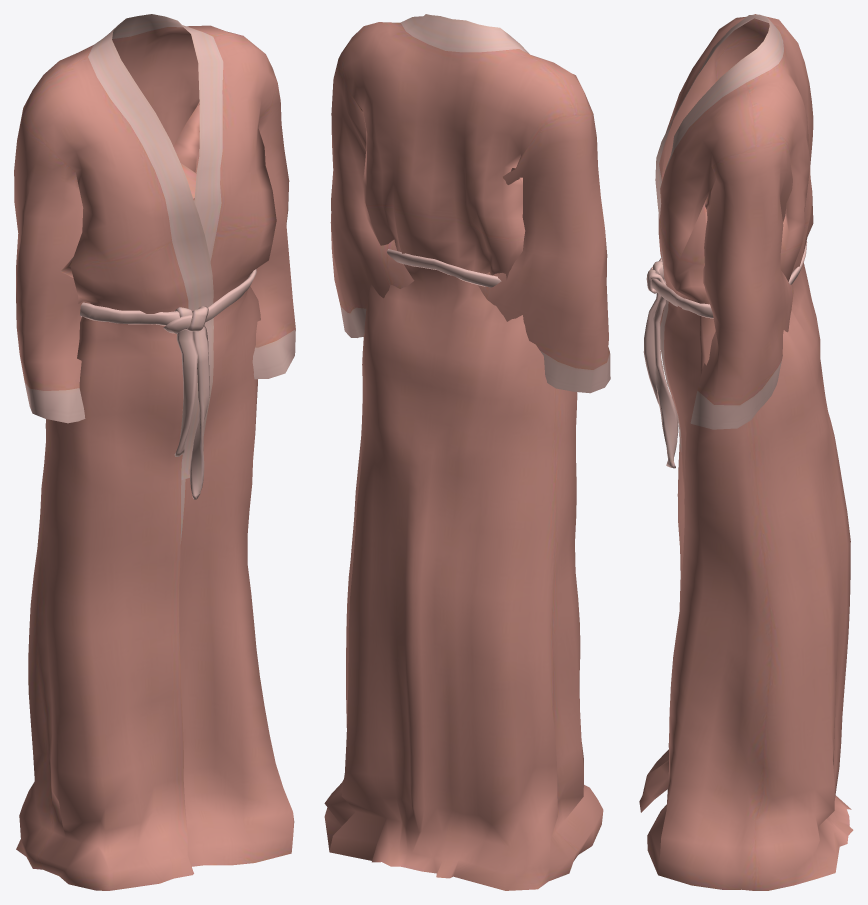
Rendered from dress_kimono.gltf.
3 views of the same model, side by side, from view 1: azimuth 30°, elevation 25°; view 2: azimuth 150°, elevation 25°; view 3: azimuth 270°, elevation 25° (orthographic). The views are drawn at different scales.
Parts seen in each view (by area): view 1: dress_kimono; view 2: dress_kimono; view 3: dress_kimono.
Boxes of the visible parts, bbox=[...] form: dress_kimono: bbox=[14, 14, 295, 890]; dress_kimono: bbox=[324, 14, 610, 890]; dress_kimono: bbox=[639, 14, 853, 890].
Bounding box in the file's own units: 0.5051 × 1.48 × 0.3549.
1 material, 1 textured.
